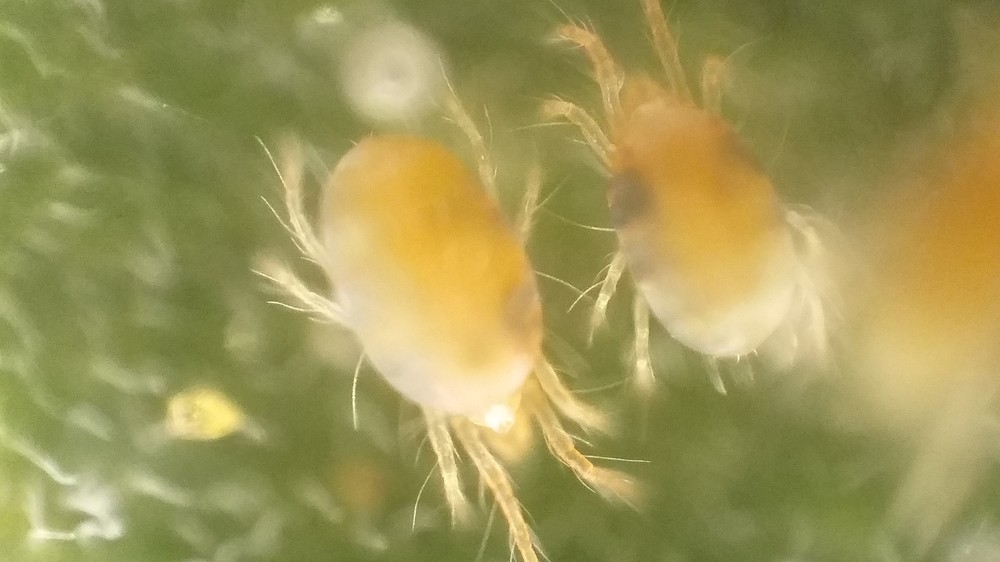Aracnido Rojo: (254, 83, 632, 556), (548, 14, 862, 413)
